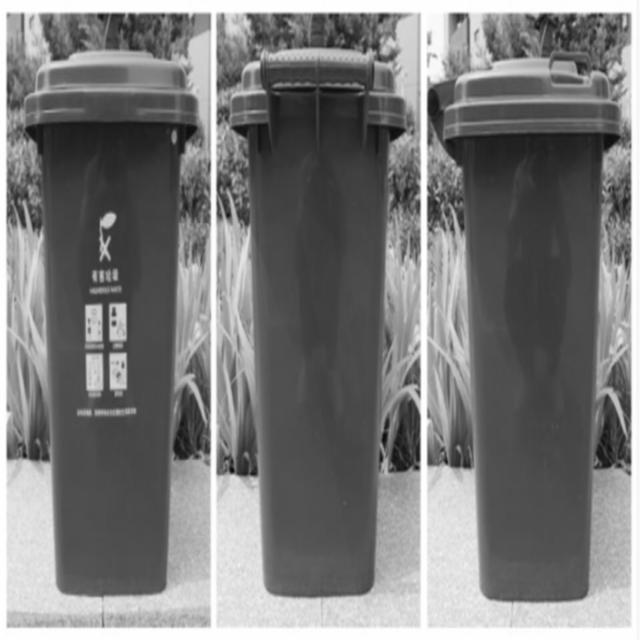ash bin: (430, 50, 620, 602), (19, 41, 198, 596), (231, 42, 406, 596)
